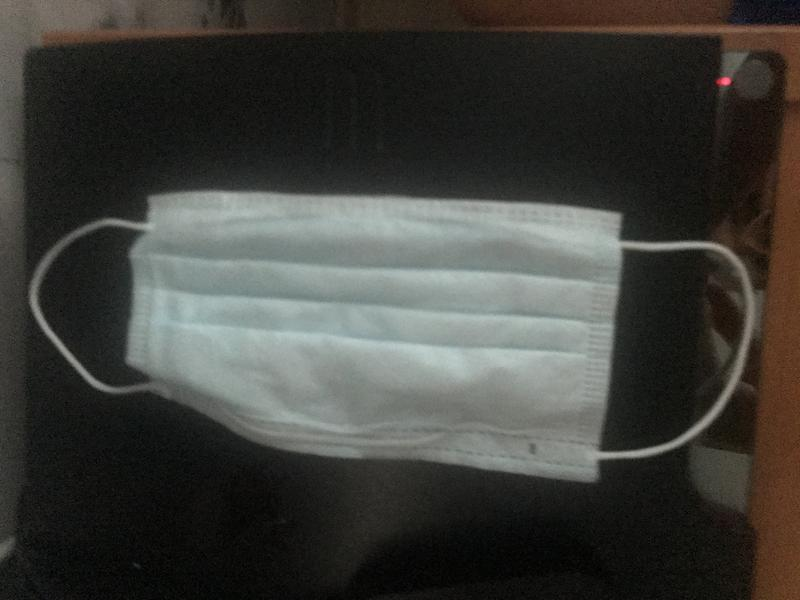medical_mask: (30, 191, 756, 482)
